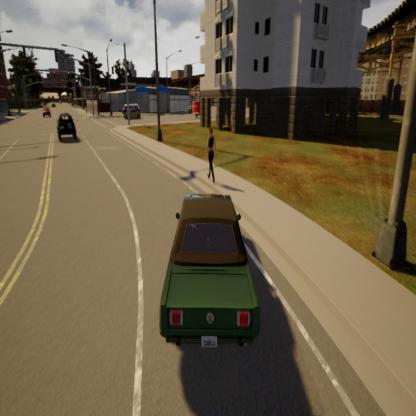Cars: (154, 192, 262, 356), (53, 108, 82, 143), (119, 103, 141, 124), (121, 110, 142, 121), (193, 100, 202, 120), (41, 106, 52, 118), (186, 105, 194, 115)
Pedestrian: (200, 122, 223, 190)
